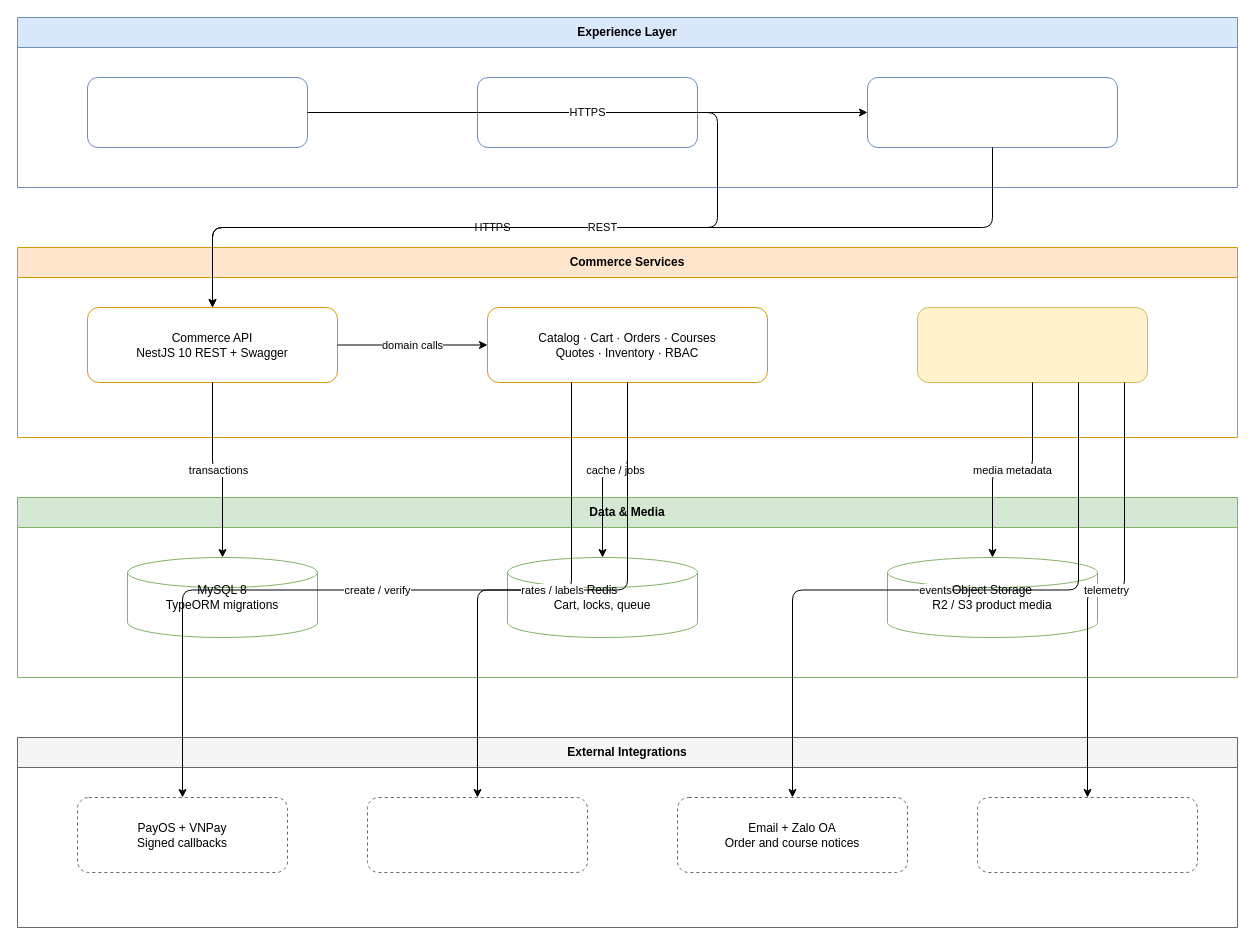
Some shapes in this 1255 by 945 pixel diagram are drawn without their labels. Each missing label, with the box of its shape:
Admin Console Next.js /admin: (476, 76, 698, 148)
Analytics + Error Tracking Funnel, audit, alerts: (976, 796, 1198, 872)
Async Worker BullMQ jobs and retries: (916, 306, 1148, 382)
BFF / API Proxy Same-origin session boundary: (866, 76, 1118, 148)
Storefront Next.js 16: (86, 76, 308, 148)
Viettel Post / GHN Quote and fulfillment: (366, 796, 588, 872)
